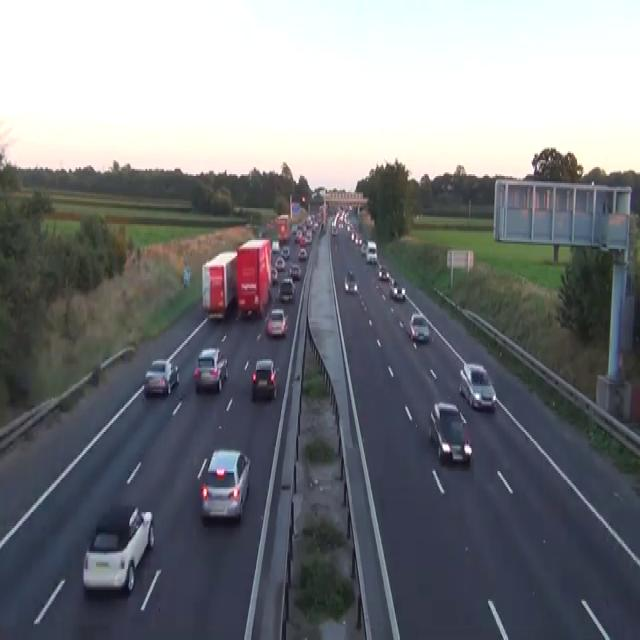Car: (82, 503, 154, 592), (199, 448, 250, 523), (428, 400, 472, 464), (458, 361, 496, 411), (193, 347, 228, 393), (143, 358, 179, 397), (251, 357, 278, 400), (265, 308, 288, 336), (409, 311, 429, 341), (277, 276, 295, 302), (344, 268, 358, 294), (390, 281, 406, 300), (378, 263, 389, 281), (289, 263, 301, 279), (183, 265, 190, 288), (274, 256, 285, 270), (270, 266, 278, 284), (441, 181, 453, 192), (281, 246, 290, 260), (298, 247, 307, 260), (271, 240, 280, 252), (360, 242, 367, 256), (294, 231, 301, 244), (354, 233, 362, 243), (331, 222, 337, 235), (299, 235, 306, 245), (291, 224, 297, 233)
Truck: (235, 236, 271, 318), (201, 249, 237, 320), (276, 213, 290, 242), (366, 240, 377, 263)
